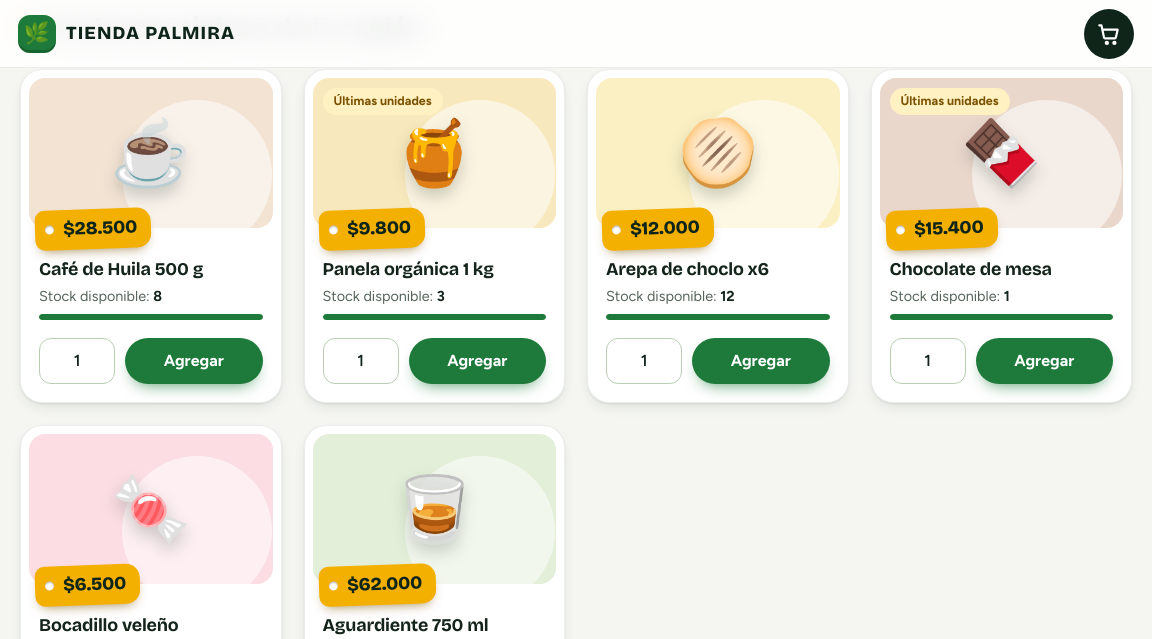
Test: Stock máximo › Caso 7: en el carrito, + con cantidad = stock no sube y muestra el toast
This screenshot has width=1152, height=639.
(page scrolled)
Step 1. Replace the text in the number field named "Cantidad de Panela orgánica 1 kg" with "3" → (360, 361), box [322,338,398,384]
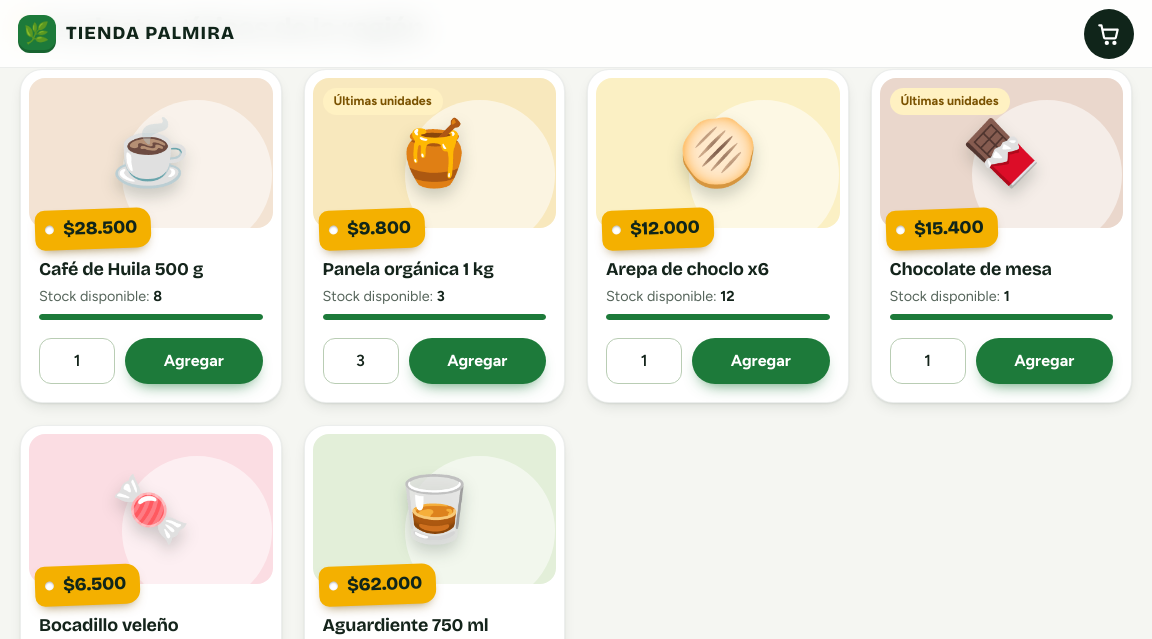
Step 2. Click the button "Agregar" below "Panela orgánica 1 kg" → (477, 361), box [408,338,546,384]
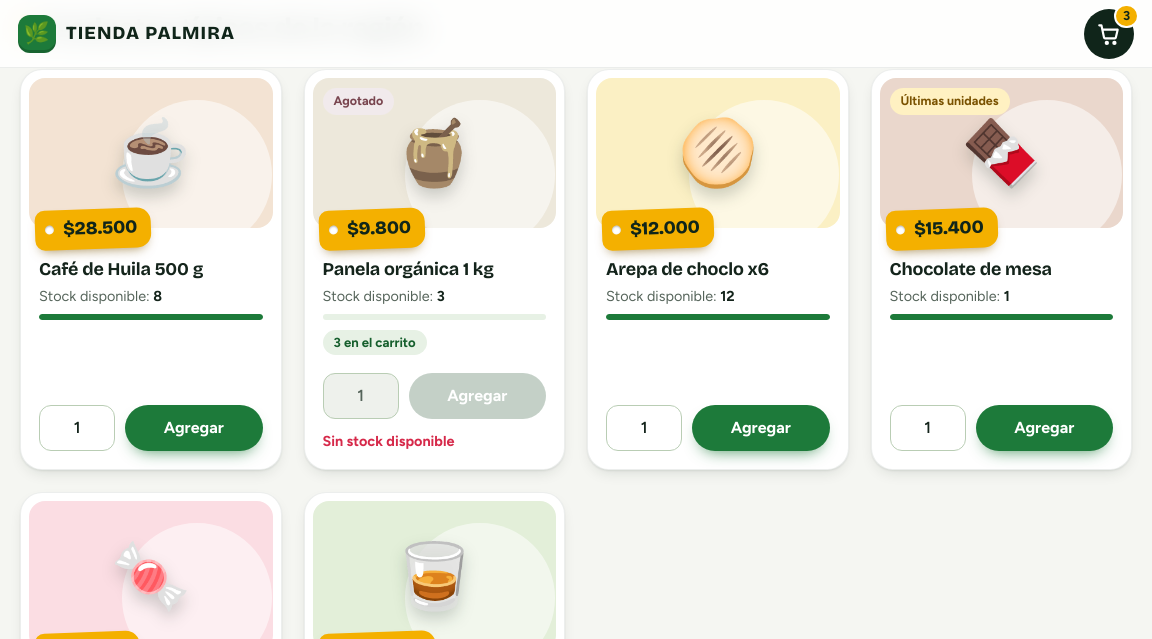
Step 3. Click the button named "abrir carrito" → (1109, 34), box [1084,8,1134,58]
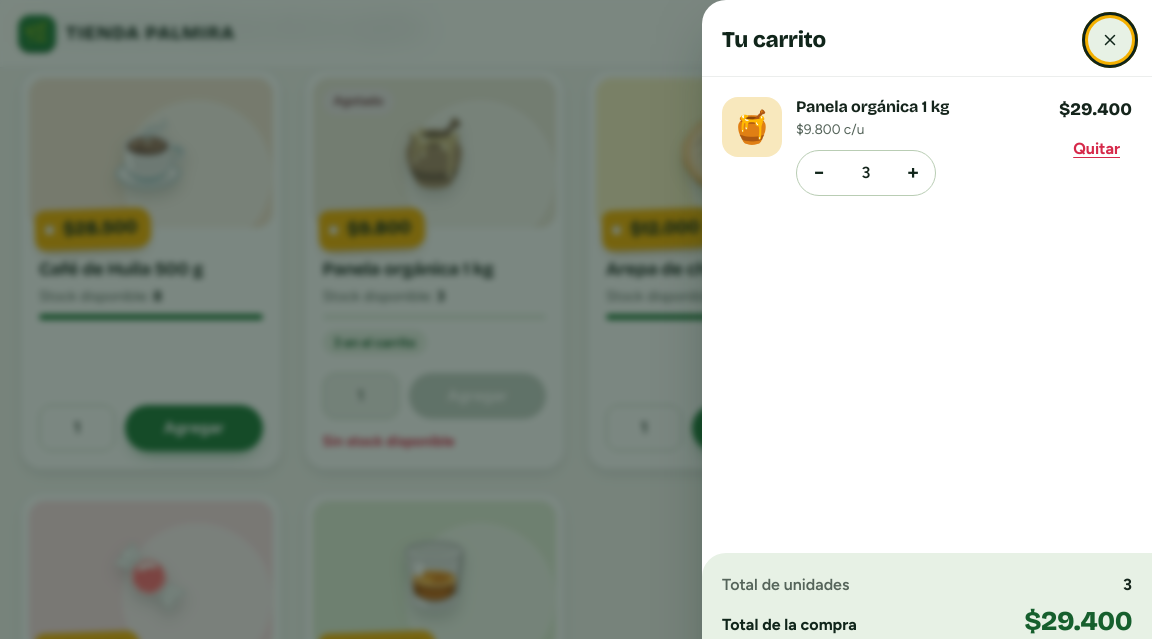
Step 4. Click the button "+" → (913, 173), box [894,154,932,192]
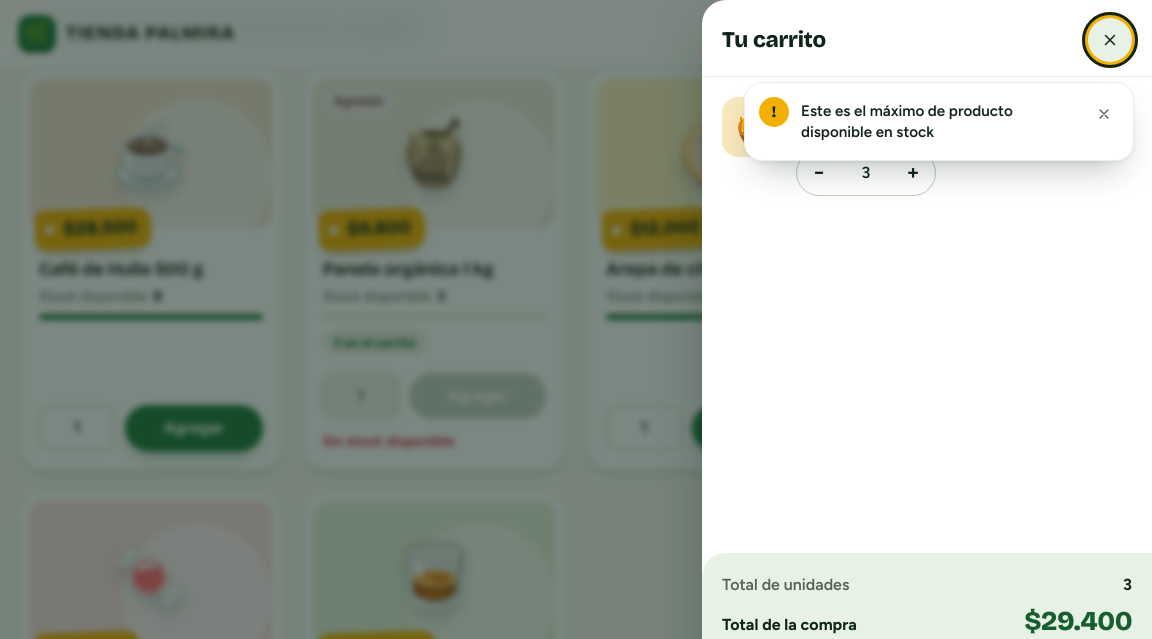
Check: the text "Este es el máximo de producto disponible en stock" is shown, box [801,102,1013,140]
